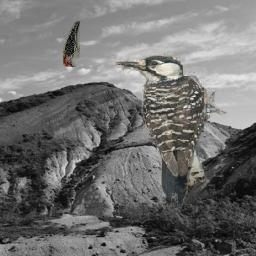Woodpecker: (114, 55, 229, 210), (64, 21, 81, 67)
